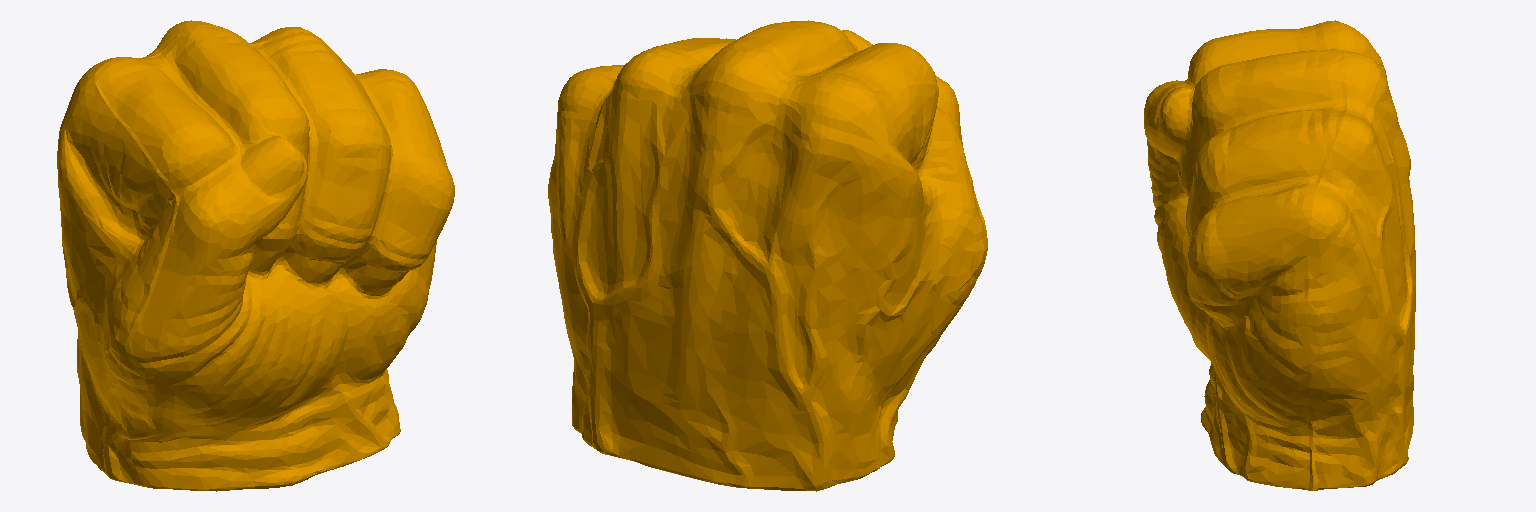
robot.urdf — 1b0kr9wf:
<?xml version='1.0'?>

<robot name="1b0kr9wf">
    <static>false</static>
    <link name="link">
        <inertial>
            <mass value="0.06938475475023254"/>
            <inertia ixx="6.864298753639432e-05" ixy="-5.451423397458311e-06" ixz="4.314851390649884e-06"
                     iyy="9.503930827743015e-05" iyz="2.4245695778182327e-06" izz="7.183904890910195e-05"/>
        </inertial>
        <collision name="collision">
            <geometry>
                <mesh filename="package://miscnet/train/1b0kr9wf/collision_model_vhacd.obj"/>
            </geometry>
        </collision>
        <visual name="visual">
            <geometry>
                <mesh filename="package://miscnet/train/1b0kr9wf/visual_model.obj"/>
            </geometry>
        </visual>
    </link>
</robot>

--- Render facts (derived) ---
Views: 3 orthographic renders of the robot side by side, from view 1: azimuth 30°, elevation 25°; view 2: azimuth 150°, elevation 25°; view 3: azimuth 270°, elevation 25°.
Model 1b0kr9wf with 1 links and 0 joints (none), rooted at link, posed all joints at 0.
Links seen in each view (by area): view 1: link; view 2: link; view 3: link.
Boxes of the visible links, bbox=[...] form: link: bbox=[57, 20, 454, 491]; link: bbox=[548, 20, 987, 491]; link: bbox=[1144, 20, 1415, 490].
Size in the robot's own frame: 0.1099 by 0.078 by 0.1149 metres.
1 mesh visuals loaded from 1 distinct referenced files (1 OBJ).
